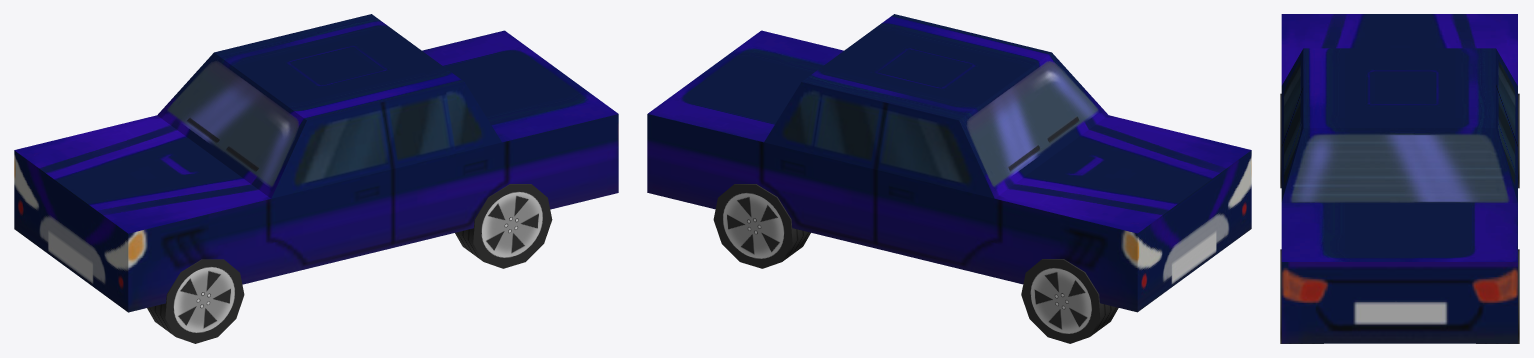
Rendered from avto_7.FBX.
3 views of the same model, side by side, from view 1: azimuth 30°, elevation 25°; view 2: azimuth 150°, elevation 25°; view 3: azimuth 270°, elevation 25° (orthographic). The views are drawn at different scales.
Parts seen in each view (by area): view 1: car007, Cylinder041, Cylinder040; view 2: car007, Cylinder038, Cylinder039; view 3: car007, Cylinder038, Cylinder040, Cylinder039, Cylinder041.
Part boxes in pixels (x1,y1,x2,y2): car007: (14,14,618,312); Cylinder041: (147,259,244,343); Cylinder040: (455,184,552,268); car007: (647,14,1251,312); Cylinder038: (713,184,810,268); Cylinder039: (1021,259,1118,343); car007: (1281,14,1517,343); Cylinder038: (1476,249,1519,343); Cylinder040: (1280,249,1323,343); Cylinder039: (1518,93,1519,188); Cylinder041: (1280,93,1281,188).
Size of the model in its own units: 3.1 by 1.12 by 1.26.
2 materials, 2 textured.
